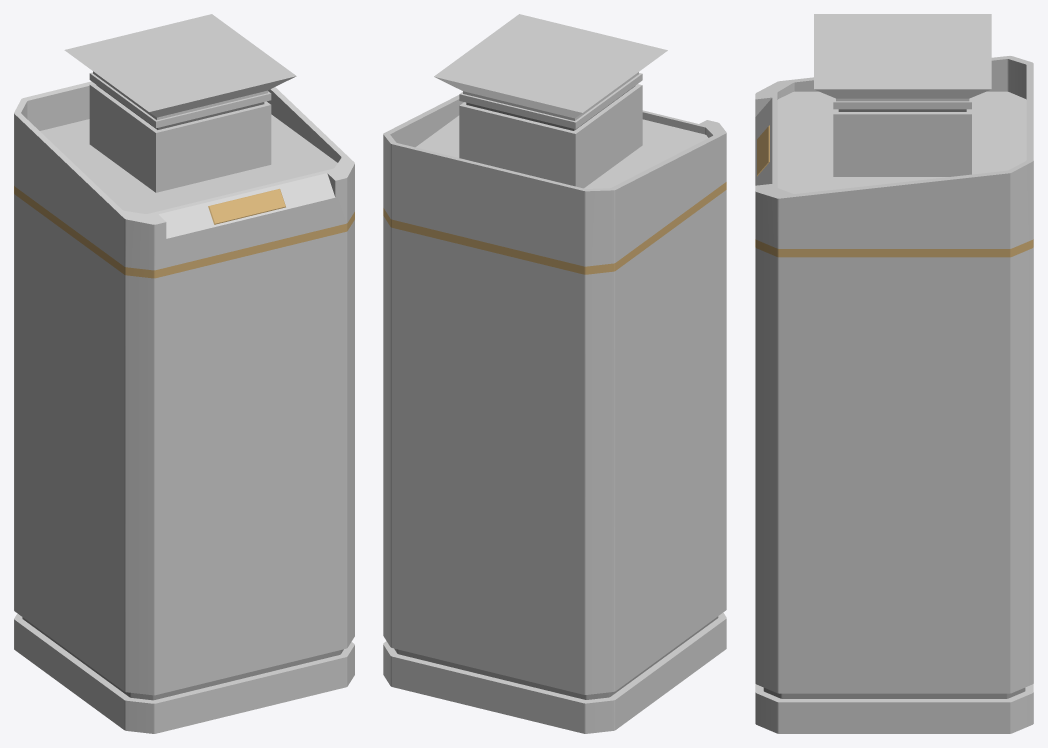
3 renders of one model, left to right at view 1: azimuth 30°, elevation 25°; view 2: azimuth 150°, elevation 25°; view 3: azimuth 270°, elevation 25°, orthographic. The views are drawn at different scales.
Parts seen in each view (by area): view 1: SM_H_Government_Office_ExhibitionCabinet_02; view 2: SM_H_Government_Office_ExhibitionCabinet_02; view 3: SM_H_Government_Office_ExhibitionCabinet_02.
Boxes of the visible parts, x1,y1,x2,y2 form: SM_H_Government_Office_ExhibitionCabinet_02: (14, 14, 354, 733); SM_H_Government_Office_ExhibitionCabinet_02: (383, 14, 726, 733); SM_H_Government_Office_ExhibitionCabinet_02: (755, 14, 1033, 733).
Size of the model in its own units: 15.41 by 15.41 by 38.13.
